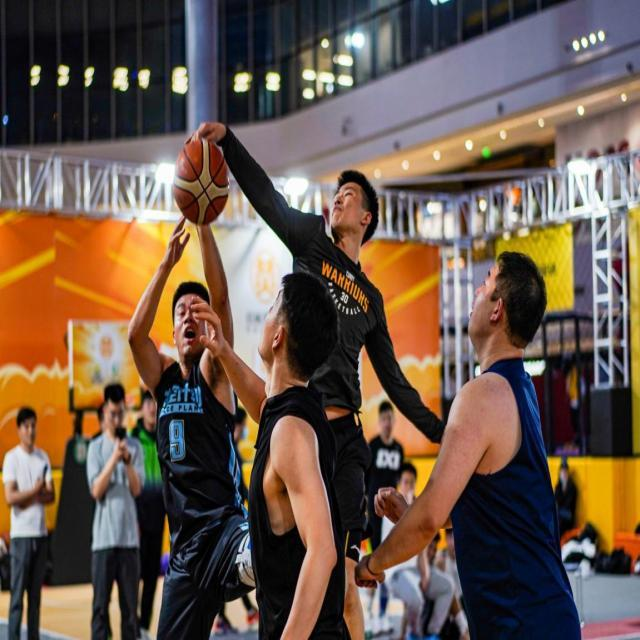rim: (172, 136, 226, 222)
